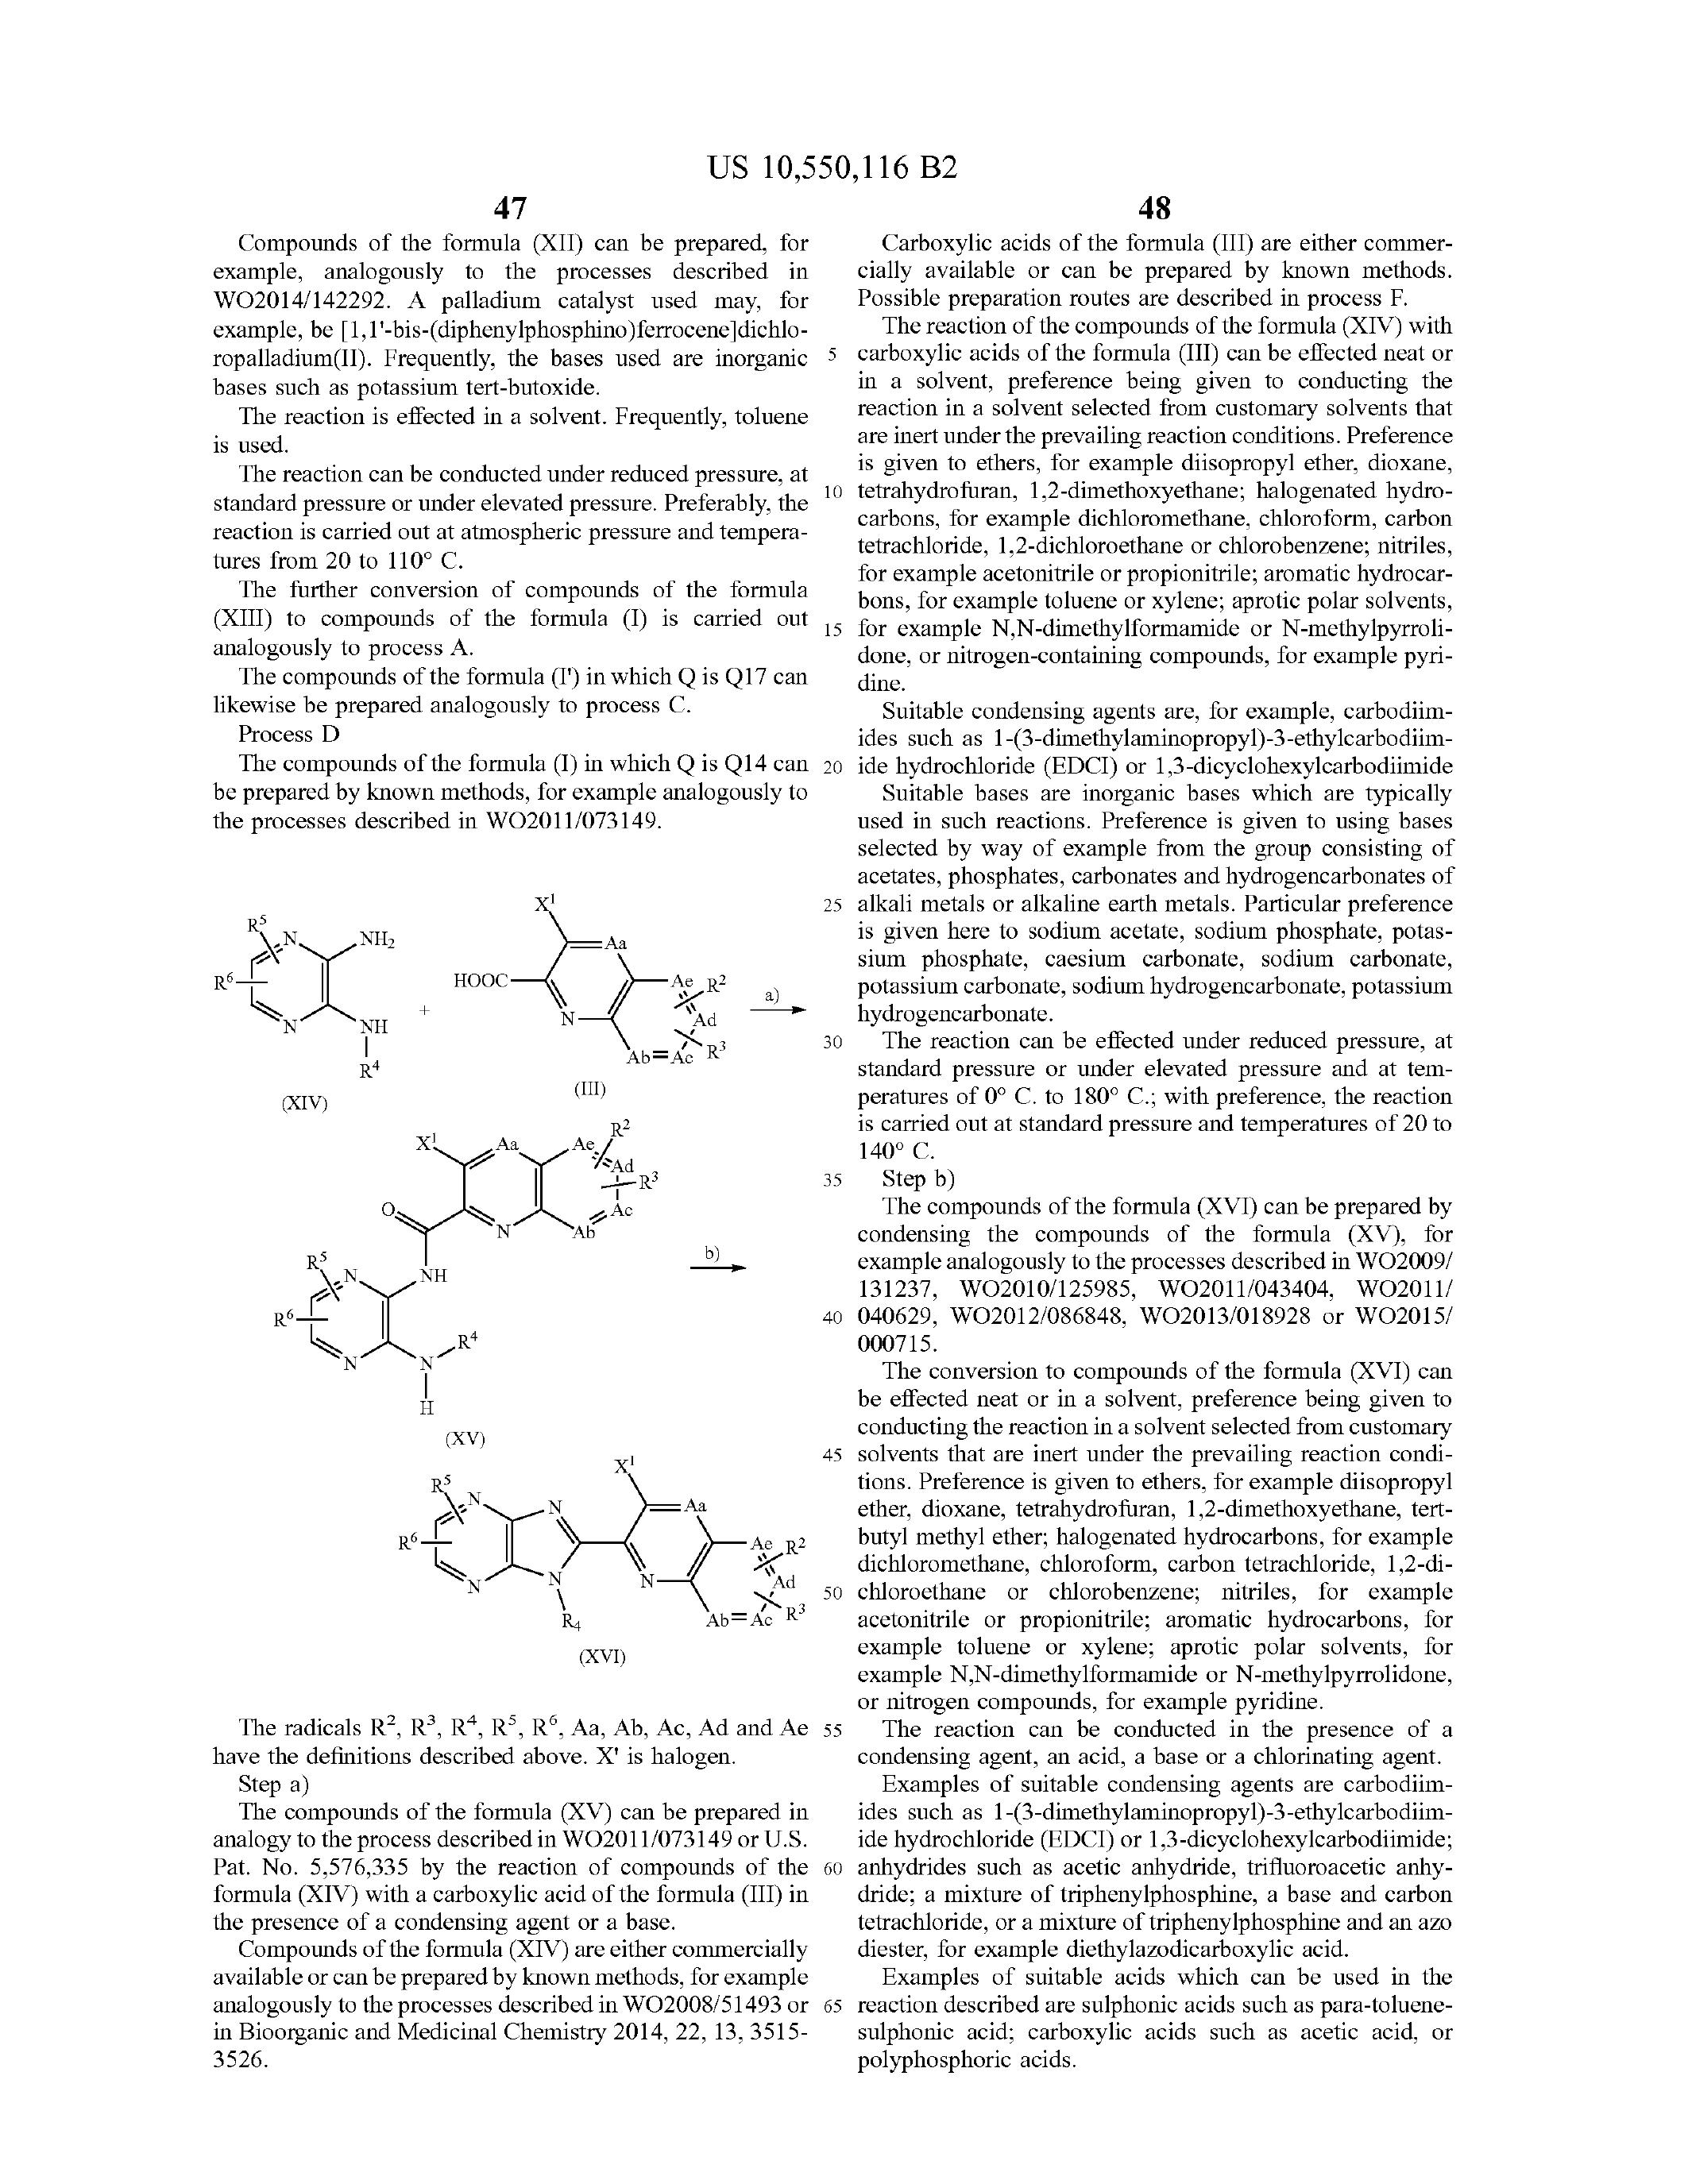reactions: (94, 869, 826, 1727)
